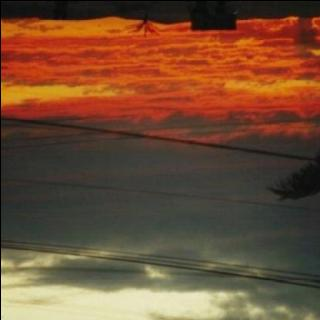Stratocumulus: (0, 26, 319, 301)
